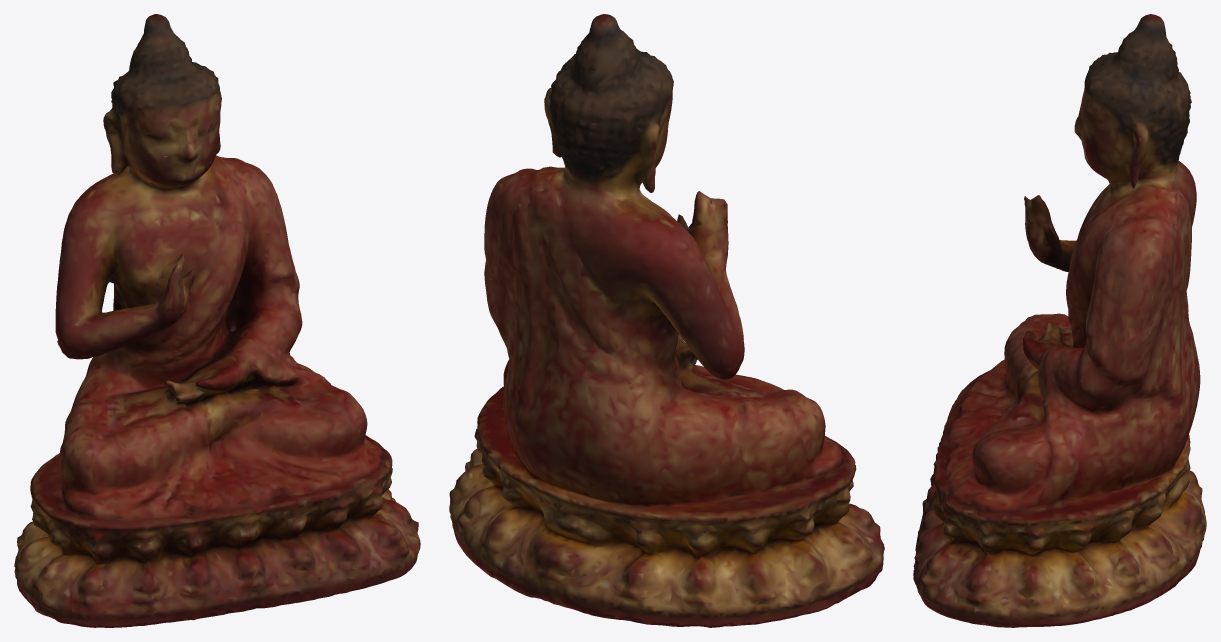
The model's file is buddha-lacquer.glb.
3 renders of one model, left to right at view 1: azimuth 30°, elevation 25°; view 2: azimuth 150°, elevation 25°; view 3: azimuth 270°, elevation 25°, orthographic. The views are drawn at different scales.
Visible parts, largest first — view 1: buddha-lacquer; view 2: buddha-lacquer; view 3: buddha-lacquer.
Boxes of the visible parts, <box> form: buddha-lacquer: <box>14,14,420,627</box>; buddha-lacquer: <box>449,14,884,627</box>; buddha-lacquer: <box>913,14,1206,627</box>.
Size of the model in its own units: 0.7345 by 0.9997 by 0.5047.
